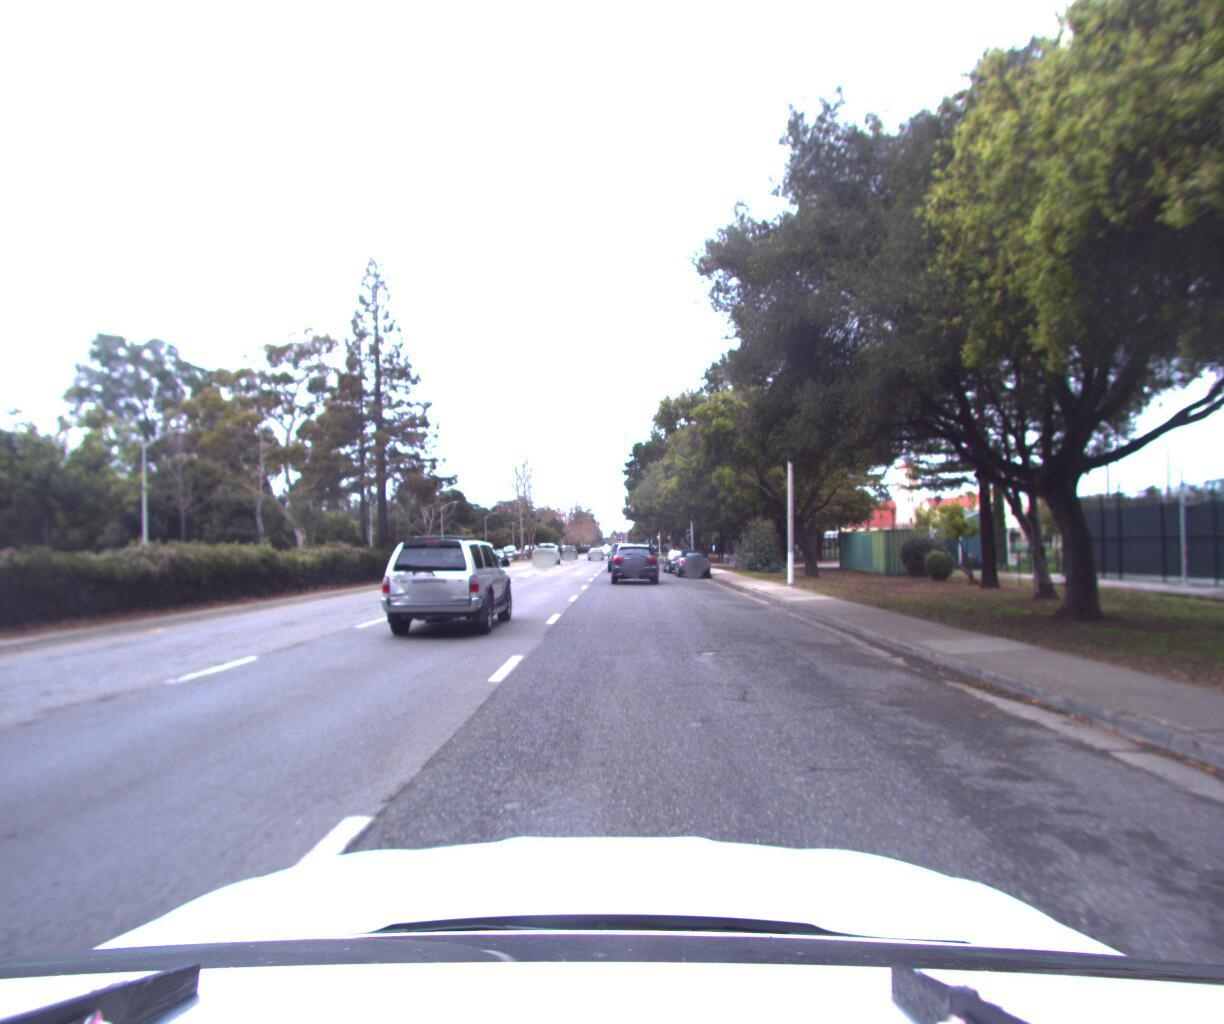car: (377, 528, 517, 643), (610, 538, 663, 586), (669, 540, 715, 577), (658, 543, 699, 571), (597, 537, 632, 569), (532, 539, 562, 566)
